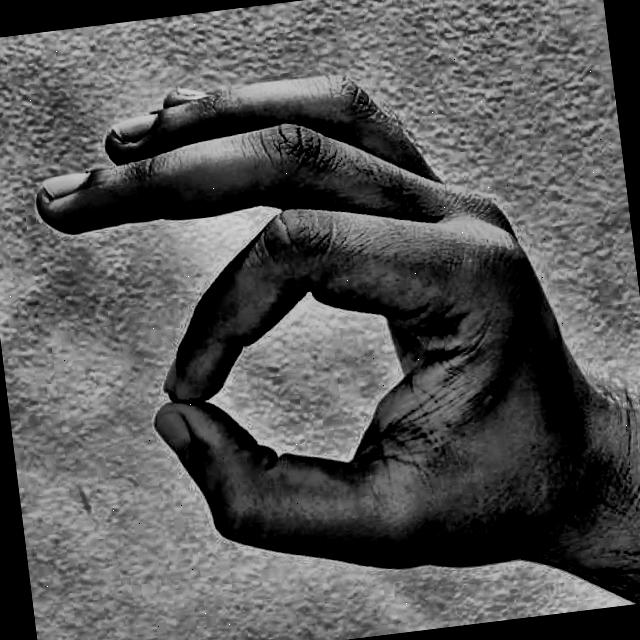Yo: (4, 0, 616, 640)
